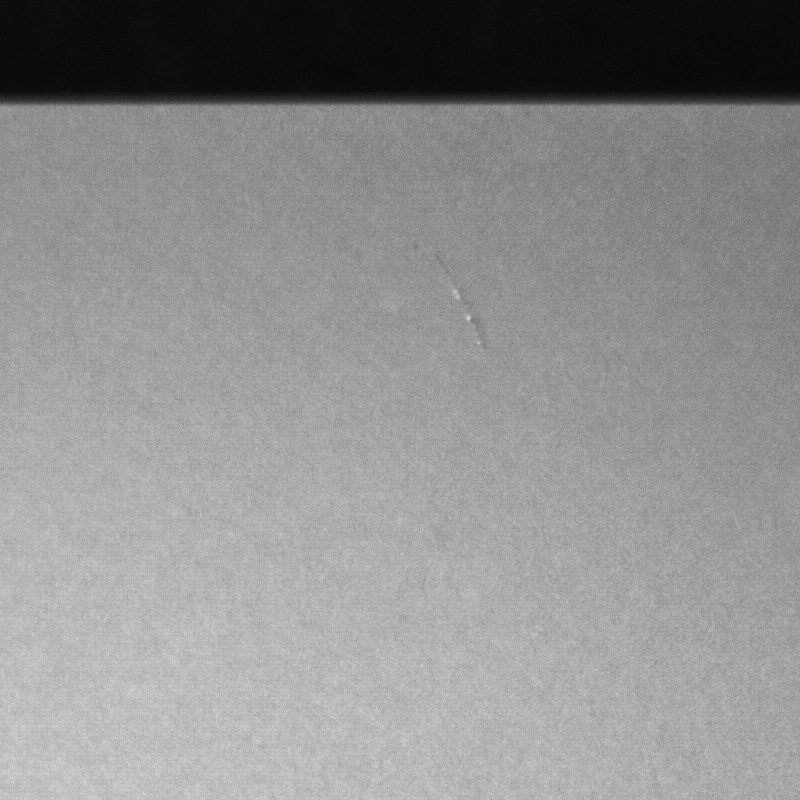defect: (438, 257, 483, 353)
